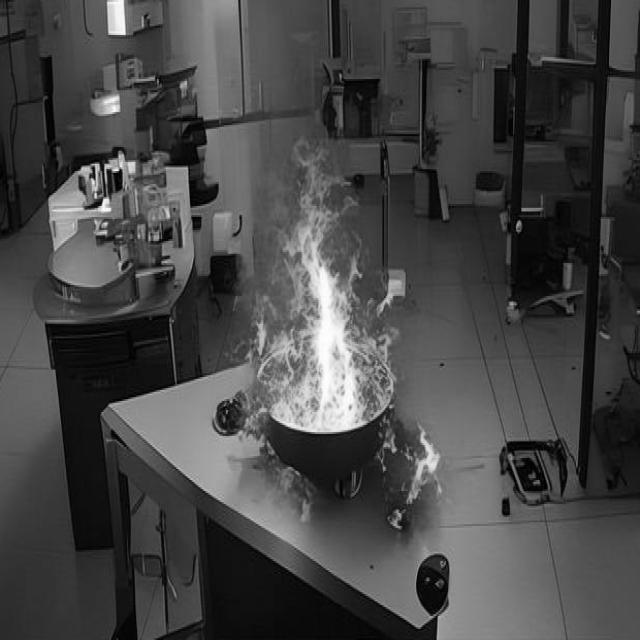smoke: (243, 124, 404, 435), (404, 417, 447, 515)
